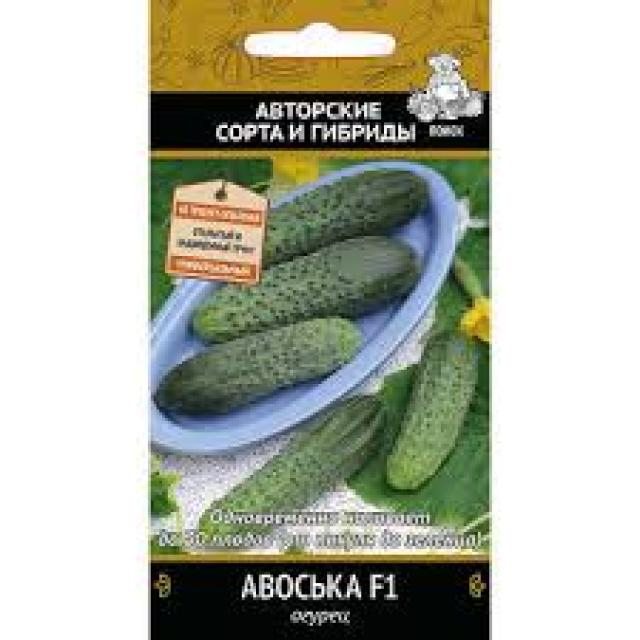cucumber: (196, 383, 405, 547), (210, 150, 448, 272), (192, 231, 420, 345), (158, 316, 370, 424), (376, 319, 481, 503)
